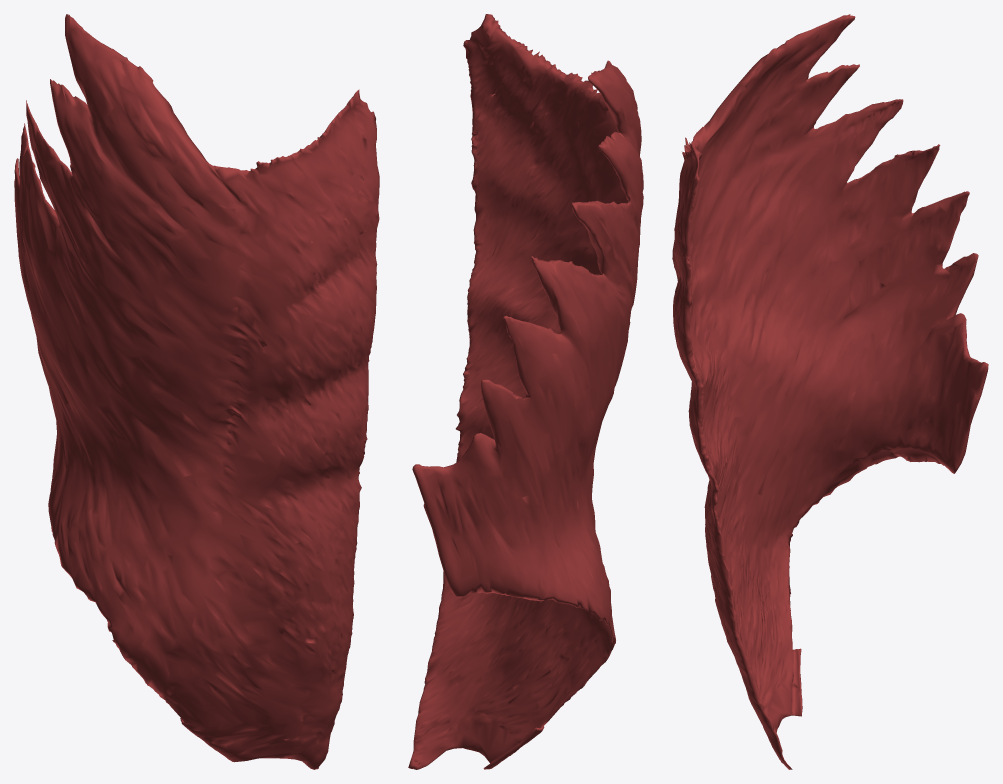
The model's file is external-abdominal-oblique-muscle-r.glb.
3 renders of one model, left to right at view 1: azimuth 30°, elevation 25°; view 2: azimuth 150°, elevation 25°; view 3: azimuth 270°, elevation 25°, orthographic. The views are drawn at different scales.
Parts seen in each view (by area): view 1: External abdominal oblique muscle.r; view 2: External abdominal oblique muscle.r; view 3: External abdominal oblique muscle.r.
Part boxes in pixels (box(x1,y1,x2,y2)): External abdominal oblique muscle.r: box(14, 14, 379, 769); External abdominal oblique muscle.r: box(408, 14, 643, 769); External abdominal oblique muscle.r: box(672, 14, 988, 769).
Bounding box in the file's own units: 0.1362 × 0.4188 × 0.18.
